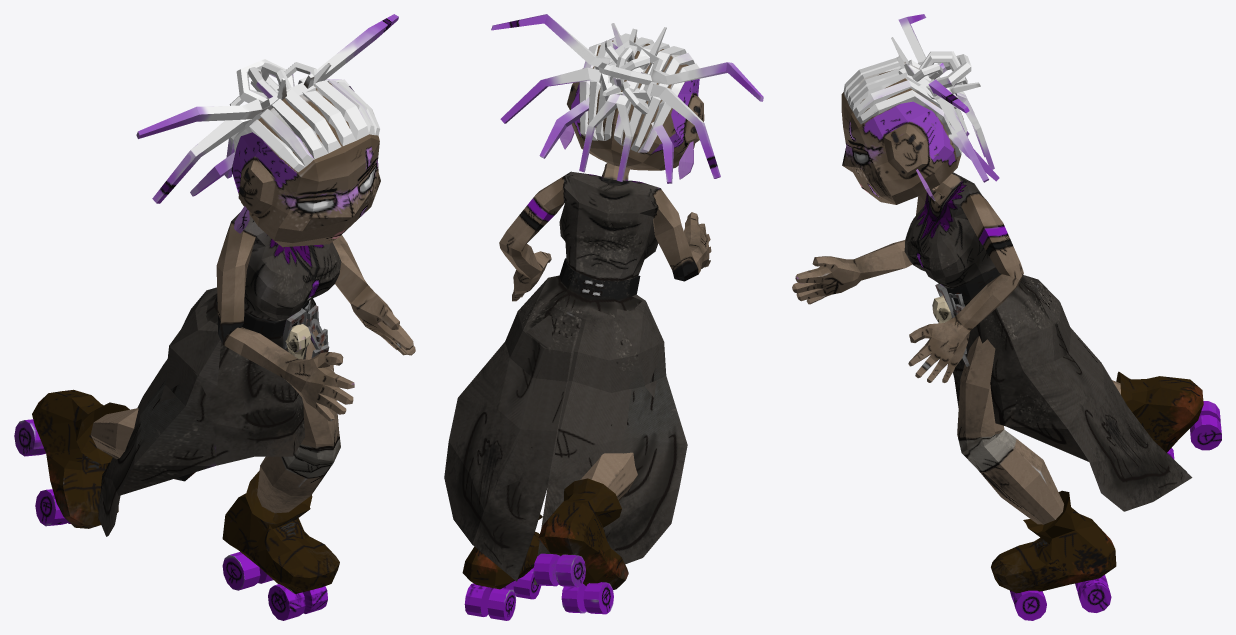
The model's file is bruja_000018.obj.
The picture shows the model from 3 angles, left to right: view 1: azimuth 30°, elevation 25°; view 2: azimuth 150°, elevation 25°; view 3: azimuth 270°, elevation 25°; orthographic projection. The views are drawn at different scales.
Visible parts, largest first — view 1: Bruja_Plane.001; view 2: Bruja_Plane.001; view 3: Bruja_Plane.001.
Boxes of the visible parts, bbox=[...] form: Bruja_Plane.001: bbox=[14, 14, 415, 620]; Bruja_Plane.001: bbox=[444, 14, 763, 620]; Bruja_Plane.001: bbox=[792, 14, 1221, 620].
Size of the model in its own units: 7.35 by 15.28 by 11.02.
